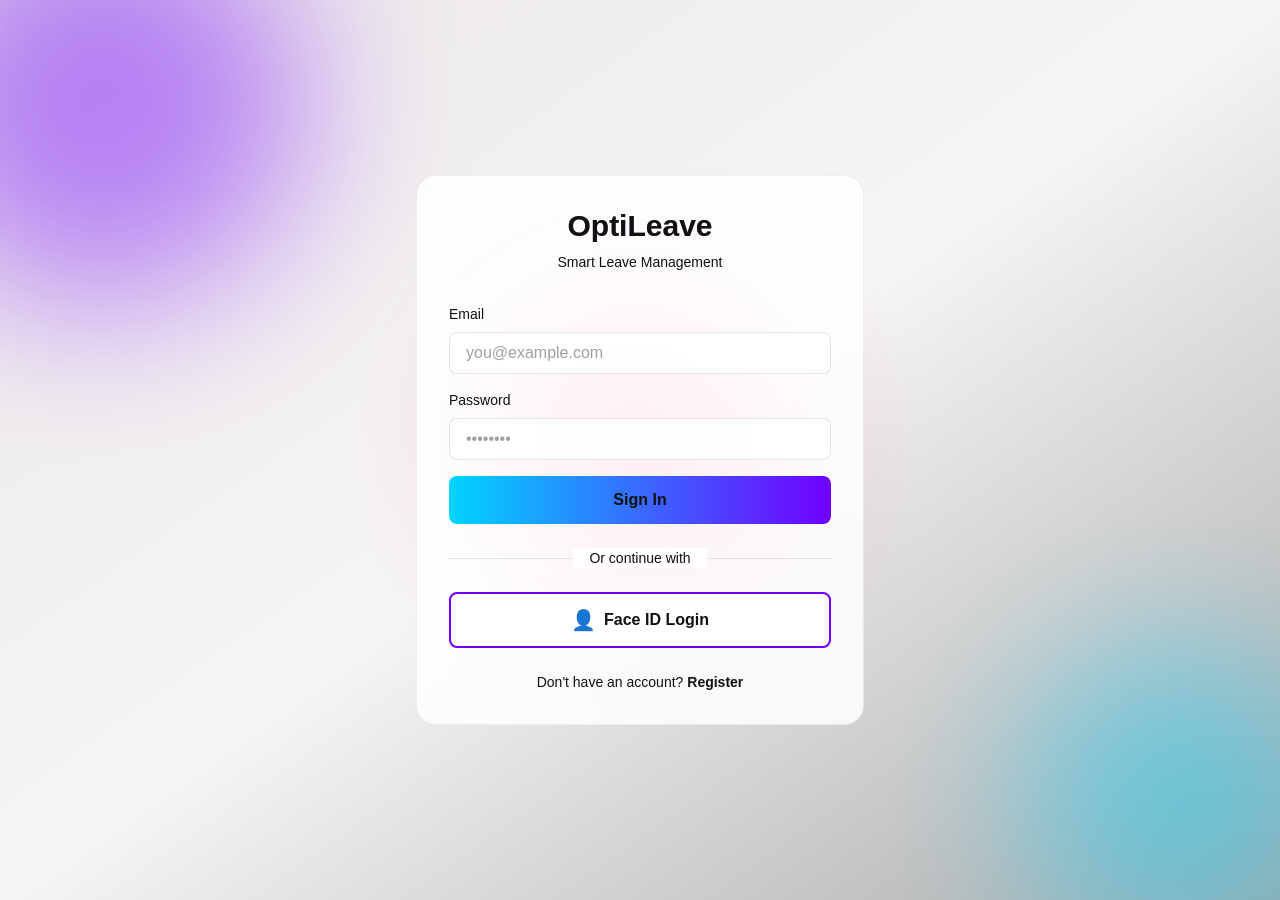
Test case: LoginPage › Form Submission - Success › should show loading state during login
The image size is (1280, 900).
Type "test@example.com" into the field labelled "Email" at (640, 353), box [449, 332, 831, 374]
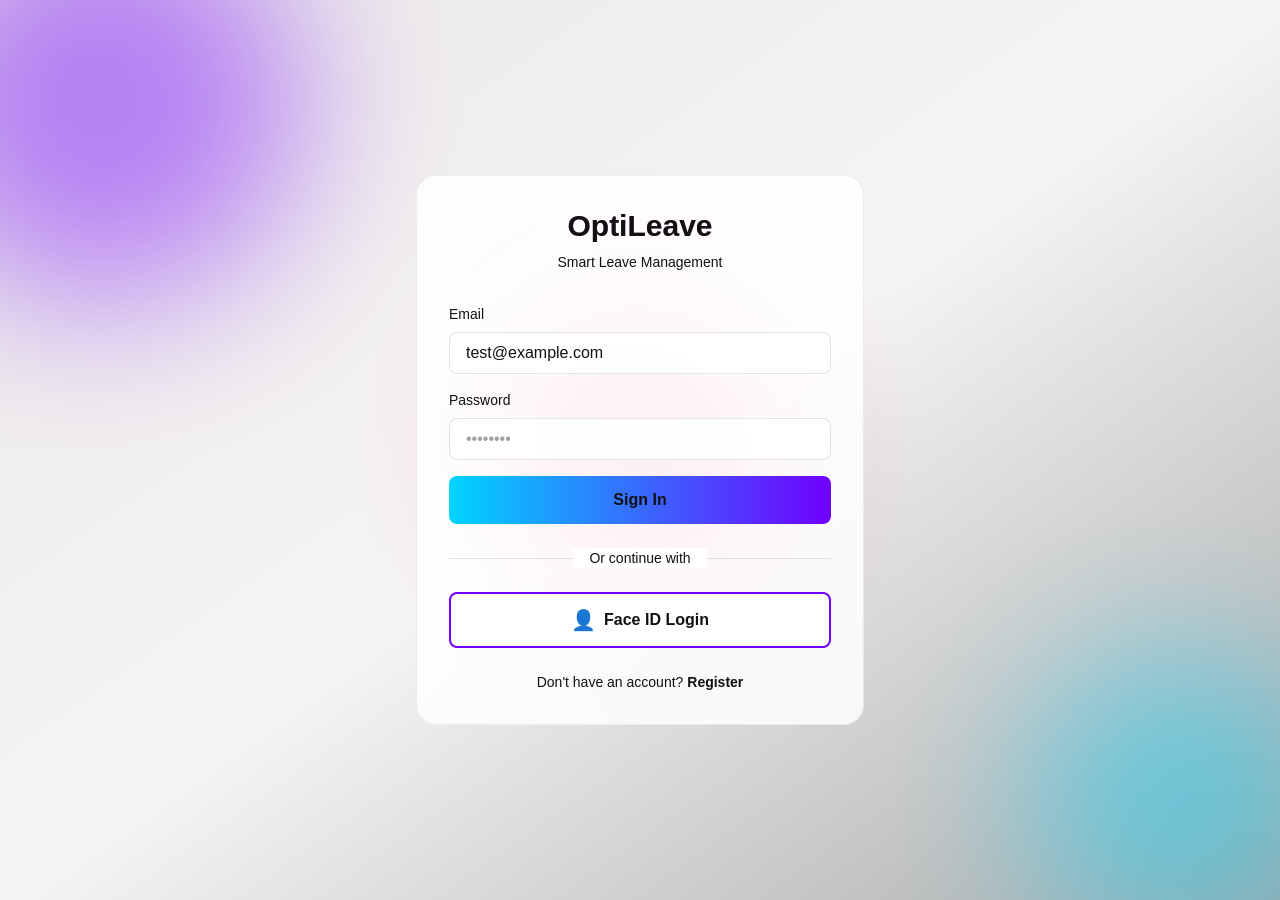
Type "password123" into the password field labelled "Password" at (640, 439), box [449, 418, 831, 460]
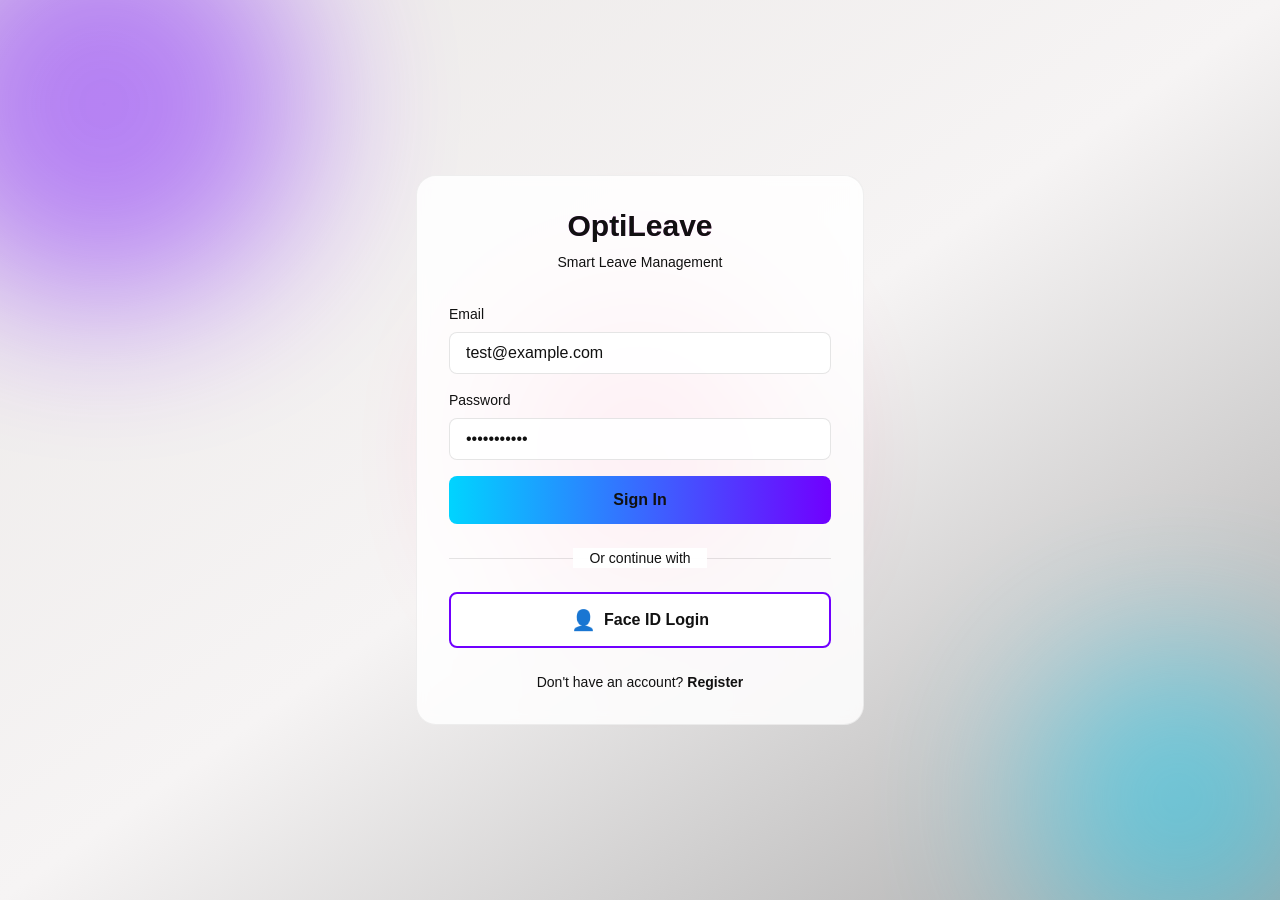
Click the button "Sign In" at (640, 500), box [449, 476, 831, 524]
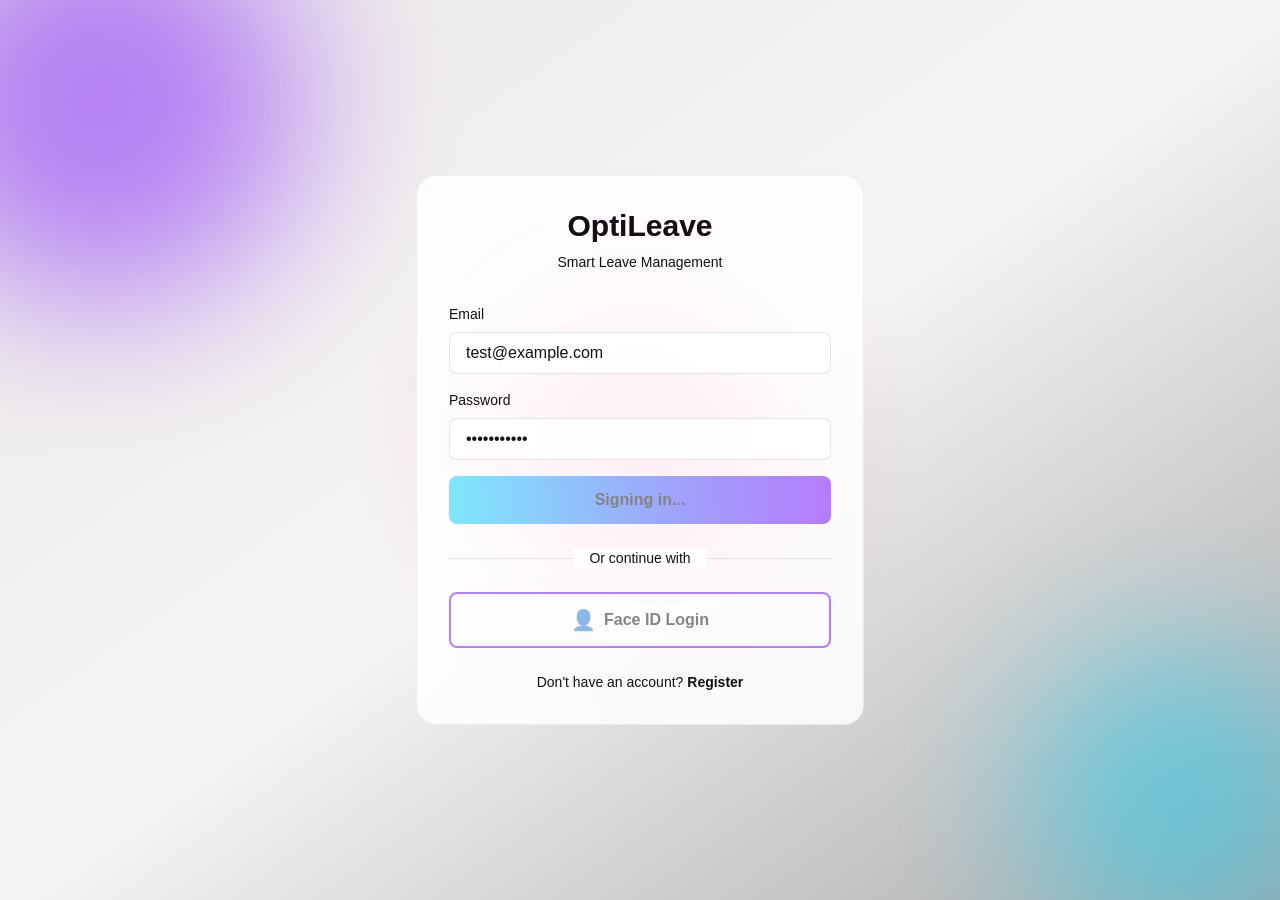
expect the button "Signing in..." is disabled: met, box [449, 476, 831, 524]
